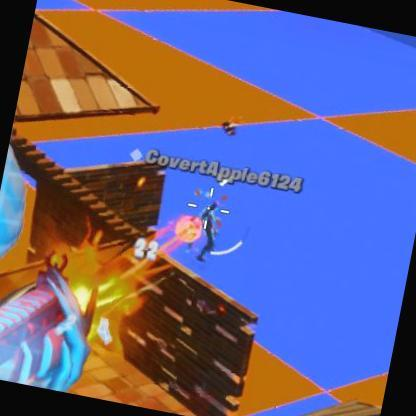person: (194, 197, 225, 260)
